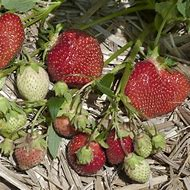Fresa: (121, 57, 188, 121), (44, 28, 103, 87), (66, 130, 106, 176), (1, 12, 25, 67), (105, 122, 134, 165)
